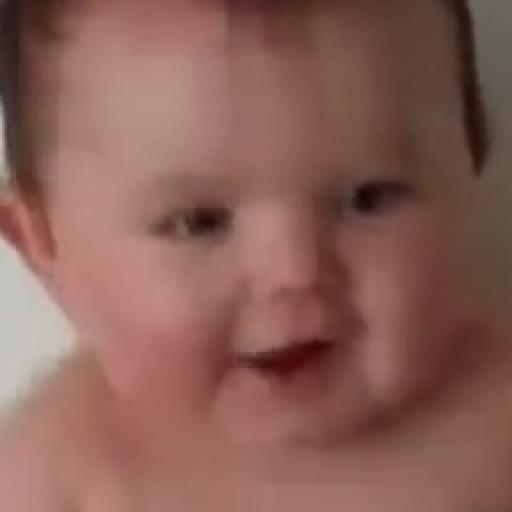Autism: (14, 14, 466, 422)
